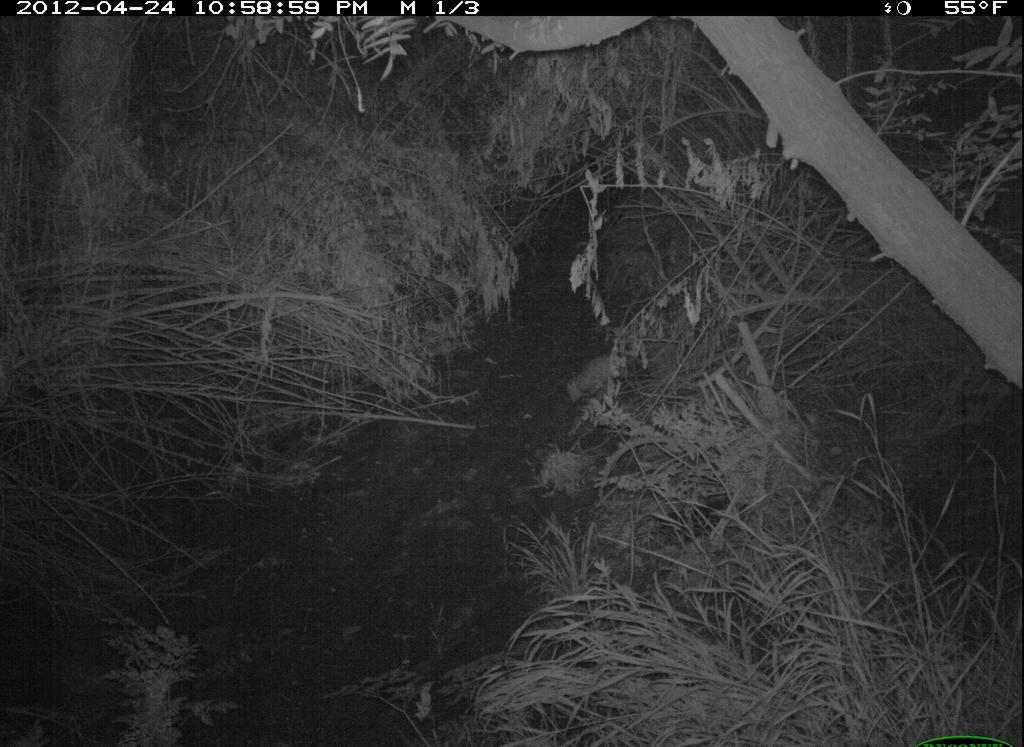opossum: (556, 333, 641, 406)
